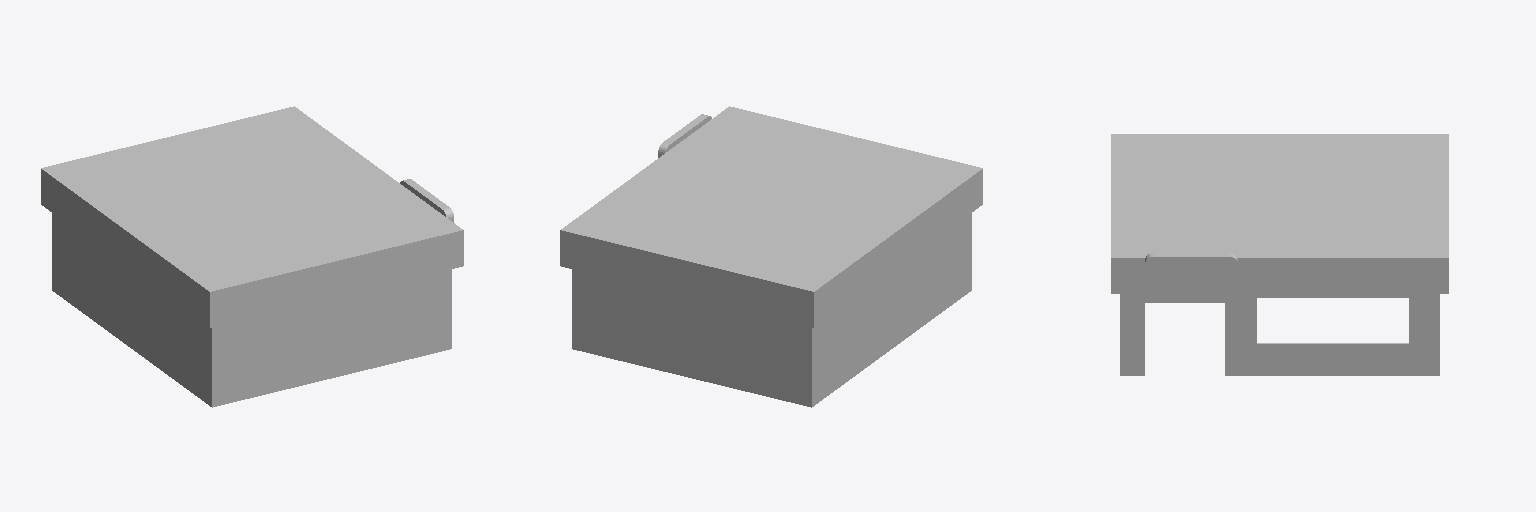
The model's file is Tienda.obj.
3 views of the same model, side by side, from view 1: azimuth 30°, elevation 25°; view 2: azimuth 150°, elevation 25°; view 3: azimuth 270°, elevation 25° (orthographic).
Visible parts, largest first — view 1: Techo, Paredes, Letrero_Oxxo; view 2: Techo, Paredes, Letrero_Oxxo; view 3: Techo, Paredes, Letrero_Oxxo.
Boxes of the visible parts, <box> form: Techo: <box>41,106,463,327</box>; Paredes: <box>52,213,451,407</box>; Letrero_Oxxo: <box>400,179,453,222</box>; Techo: <box>560,106,982,327</box>; Paredes: <box>572,213,971,407</box>; Letrero_Oxxo: <box>658,114,711,157</box>; Techo: <box>1111,134,1448,293</box>; Paredes: <box>1120,294,1439,375</box>; Letrero_Oxxo: <box>1145,253,1237,298</box>.
Bounding box in the file's own units: 11.33 × 5.21 × 12.7.